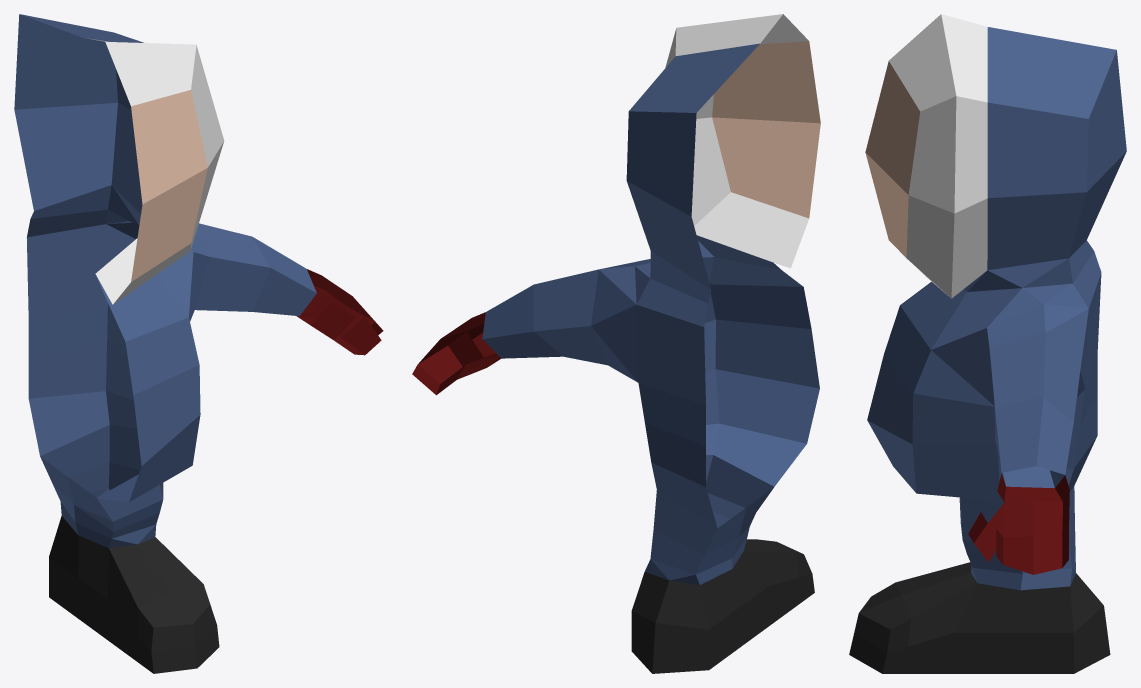
The model's file is Man.glb.
3 renders of one model, left to right at view 1: azimuth 30°, elevation 25°; view 2: azimuth 150°, elevation 25°; view 3: azimuth 270°, elevation 25°, orthographic. The views are drawn at different scales.
Visible parts, largest first — view 1: Circle; view 2: Circle; view 3: Circle.
Part boxes in pixels (x1,y1,x2,y2): Circle: (14,14,383,673); Circle: (412,14,820,673); Circle: (849,14,1126,673).
Size of the model in its own units: 1.11 by 2.03 by 0.8293.
